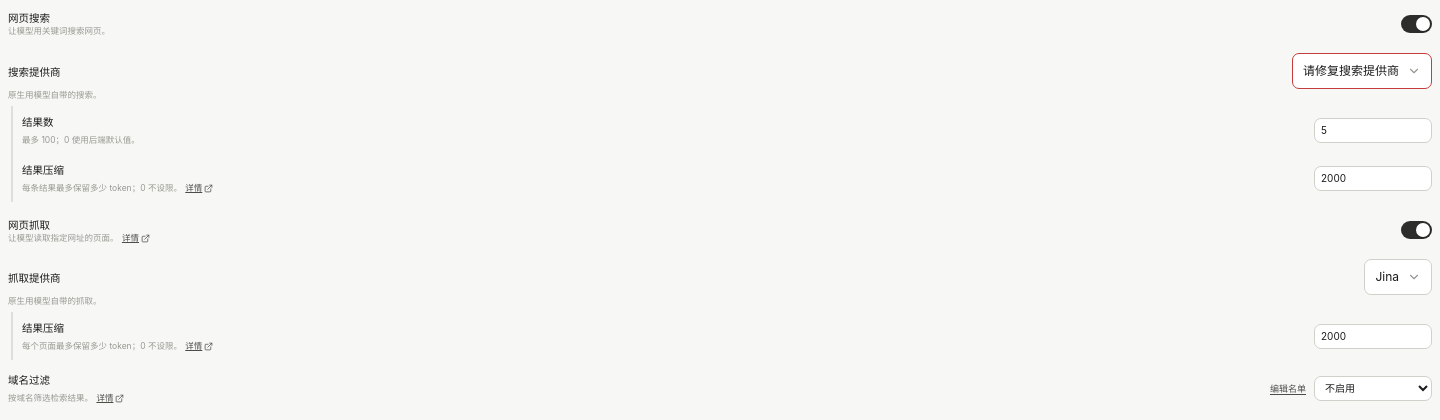
Test: WebSearchBehaviorSettings › turns either leg off on its own
Check: the button with aria-label "搜索提供商：" is shown, box [1292,53,1432,89]
Check: the number field labelled "结果数" is shown, box [1314,118,1432,142]
Click the switch named "网页搜索已".
click(1416, 24)  # box [1401,15,1432,33]
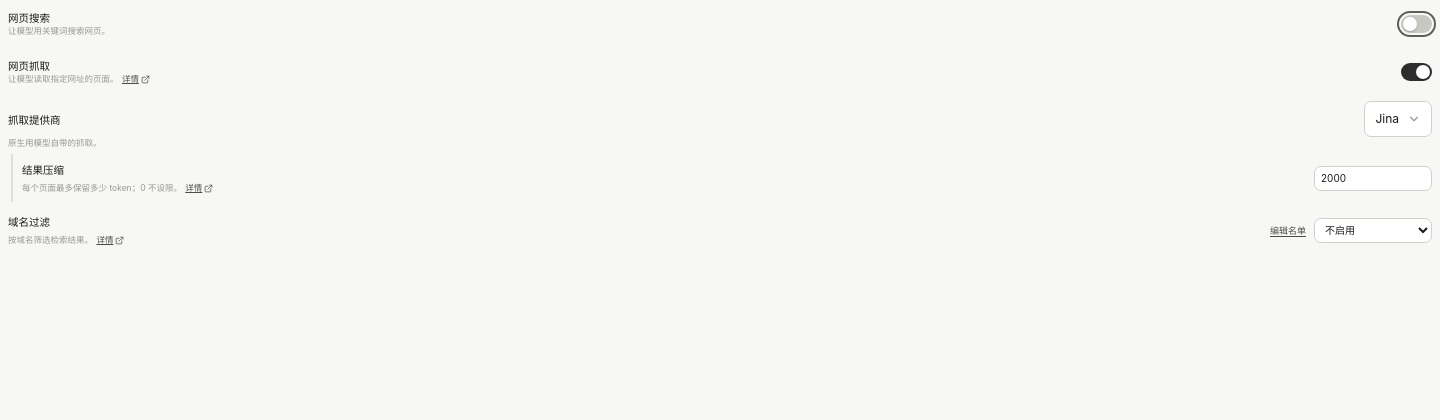
Check: the button with aria-label "抓取提供商：" is shown, box [1364,101,1432,137]
Check: the switch named "网页搜索已关闭" is not checked, box [1401,15,1432,33]
Check: the text "结果数" is gone
Click the switch named "网页抓取已".
click(1416, 72)  # box [1401,63,1432,81]
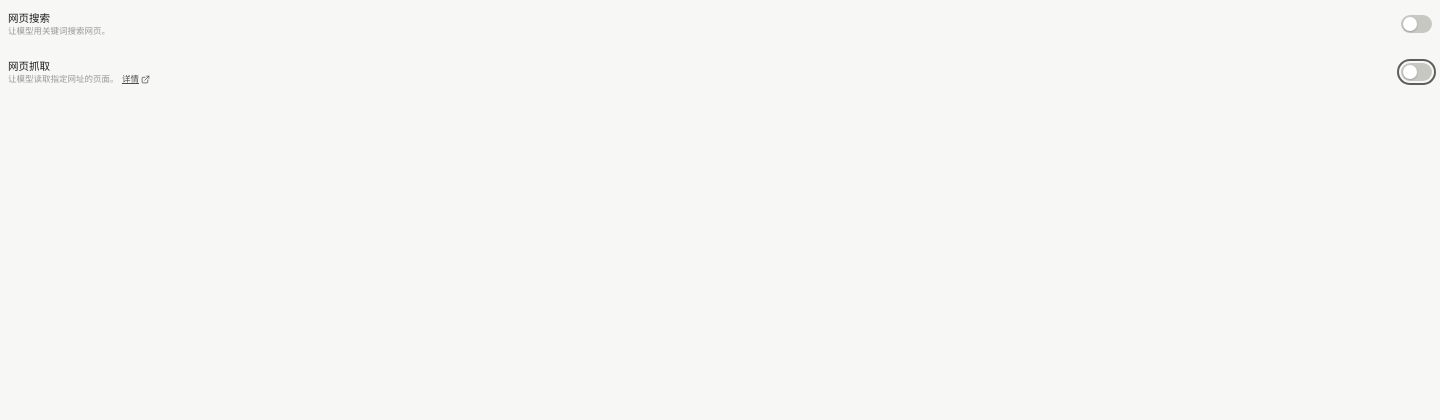
Check: the switch named "网页抓取已关闭" is not checked, box [1401,63,1432,81]
Check: the number field labelled "抓取结果压缩" is gone
